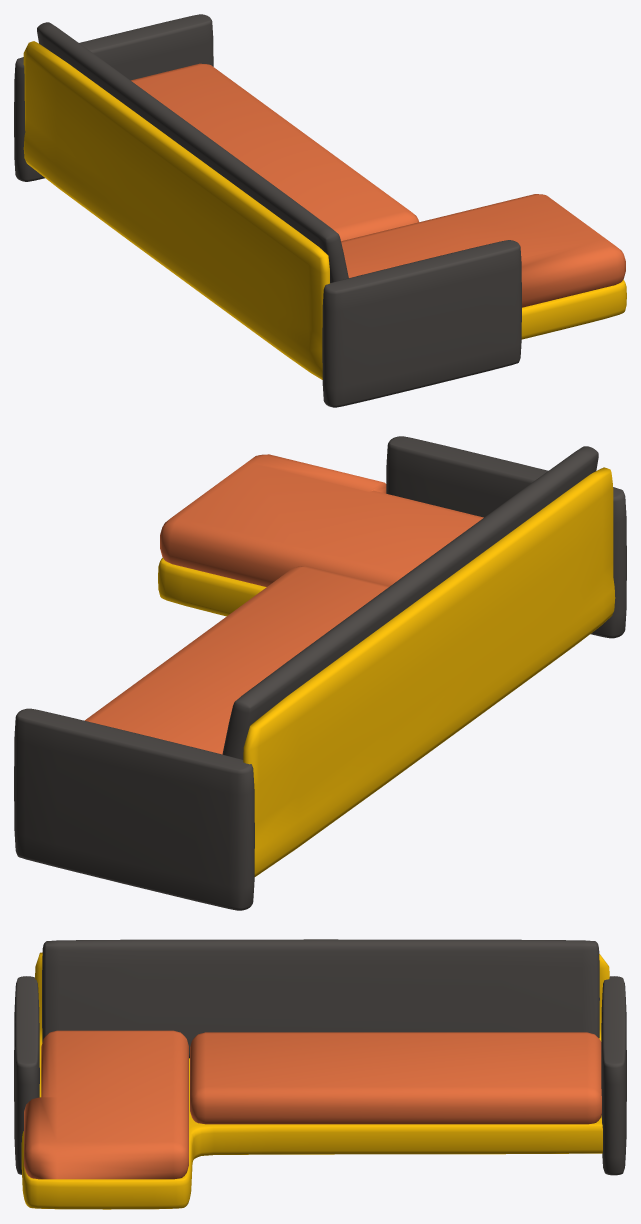
The model's file is Sofa-L.fbx.
3 renders of one model, top to bottom at view 1: azimuth 30°, elevation 25°; view 2: azimuth 150°, elevation 25°; view 3: azimuth 270°, elevation 25°, orthographic. The views are drawn at different scales.
Parts seen in each view (by area): view 1: Sofa, Cube, Cube.001; view 2: Sofa, Cube.001, Cube; view 3: Sofa, Cube, Cube.001.
Boxes of the visible parts, x1,y1,x2,y2 form: Sofa: [14, 14, 626, 407]; Cube: [131, 63, 418, 241]; Cube.001: [341, 194, 625, 307]; Sofa: [14, 436, 626, 910]; Cube.001: [160, 454, 483, 586]; Cube: [85, 566, 389, 754]; Sofa: [14, 939, 626, 1209]; Cube: [190, 1032, 601, 1124]; Cube.001: [24, 1030, 188, 1179].
Size of the model in its own units: 5.17 by 2.6 by 9.34.
